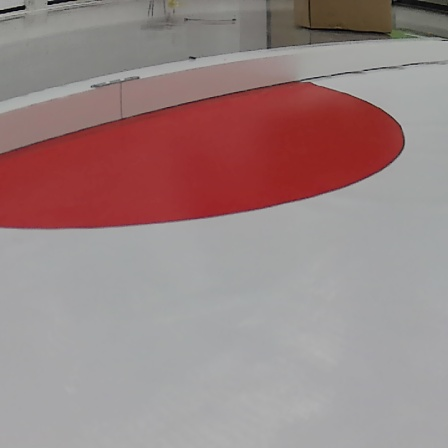red_base: (1, 81, 418, 234)
